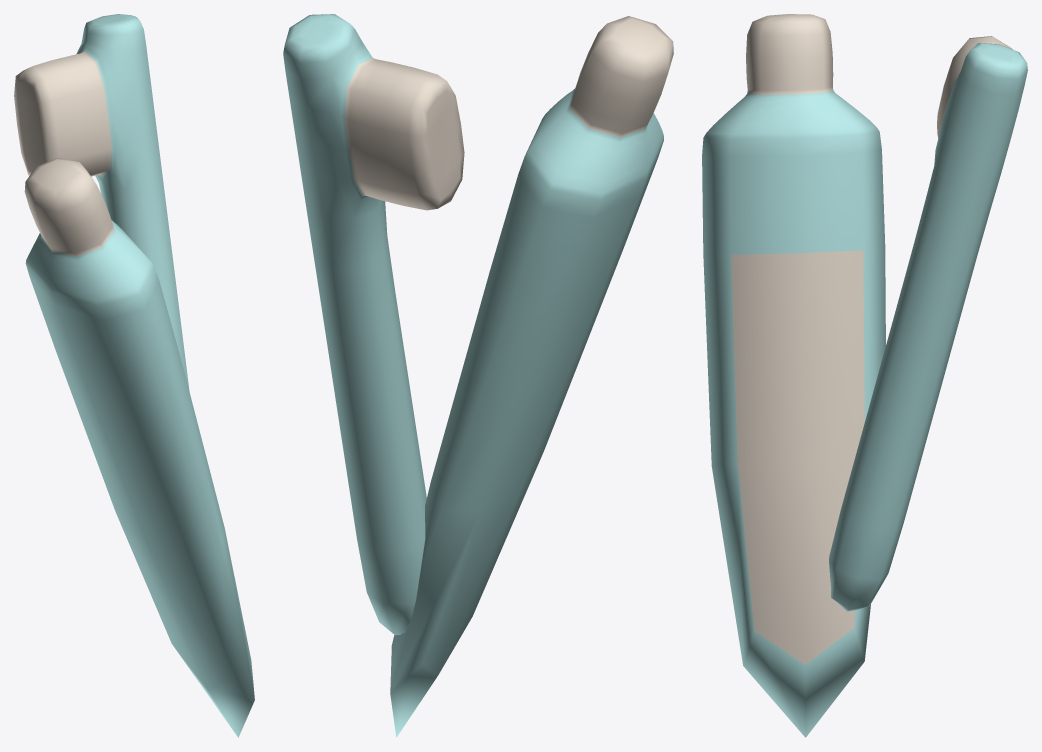
File: Toothbrush and toothpaste.fbx
3 views of the same model, side by side, from view 1: azimuth 30°, elevation 25°; view 2: azimuth 150°, elevation 25°; view 3: azimuth 270°, elevation 25° (orthographic). The views are drawn at different scales.
Visible parts, largest first — view 1: Toothpaste, Toothbrush; view 2: Toothpaste, Toothbrush; view 3: Toothpaste, Toothbrush.
Part boxes in pixels (bbox=[...]): Toothpaste: bbox=[24, 158, 254, 737]; Toothbrush: bbox=[14, 14, 189, 391]; Toothpaste: bbox=[390, 16, 673, 737]; Toothbrush: bbox=[283, 14, 464, 635]; Toothpaste: bbox=[702, 14, 885, 737]; Toothbrush: bbox=[829, 36, 1027, 611].
Size of the model in its own units: 12.53 by 37.1 by 16.27.
